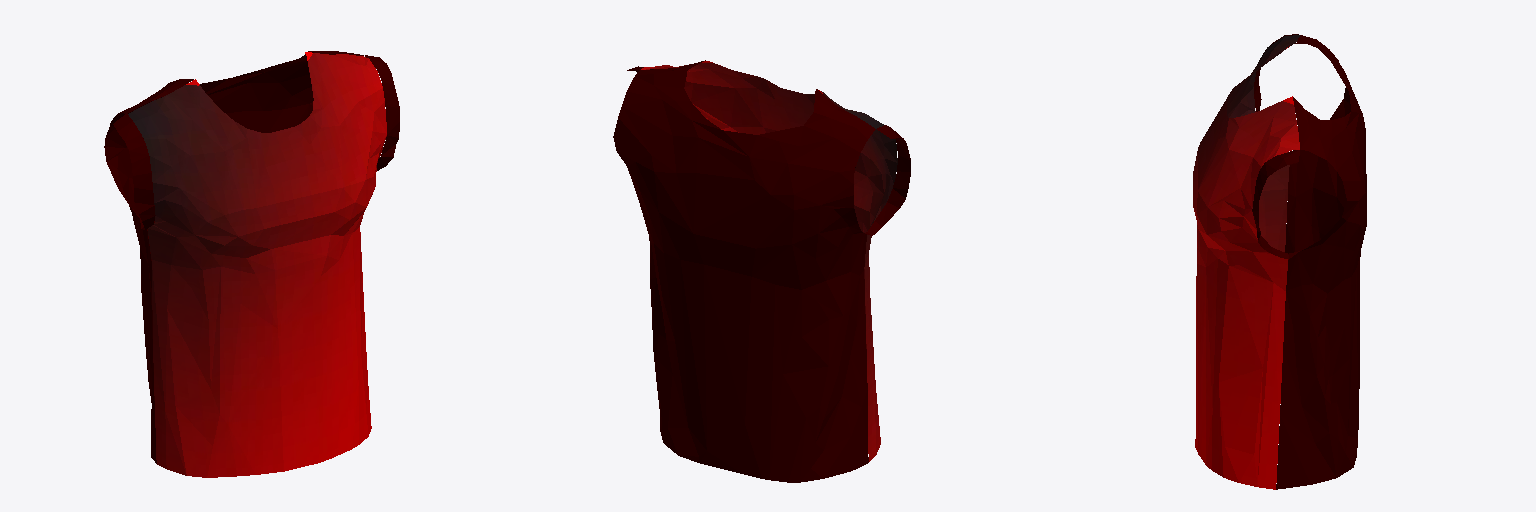
3 renders of one model, left to right at view 1: azimuth 30°, elevation 25°; view 2: azimuth 150°, elevation 25°; view 3: azimuth 270°, elevation 25°, orthographic.
Parts seen in each view (by area): view 1: T_shirt; view 2: T_shirt; view 3: T_shirt.
Boxes of the visible parts, x1,y1,x2,y2 form: T_shirt: [104, 51, 399, 477]; T_shirt: [613, 60, 910, 482]; T_shirt: [1193, 34, 1366, 489].
Bounding box in the file's own units: 0.2935 × 0.3892 × 0.1639.
2 materials, 1 textured.